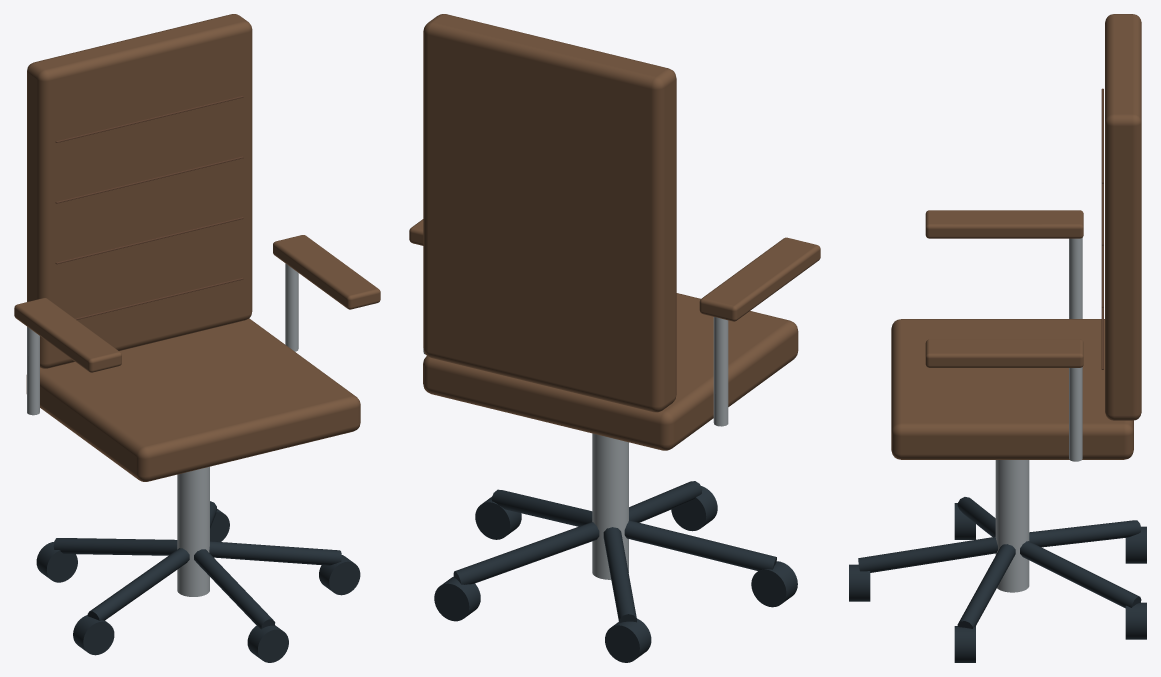
The model's file is officeExecutiveChair.glb.
3 renders of one model, left to right at view 1: azimuth 30°, elevation 25°; view 2: azimuth 150°, elevation 25°; view 3: azimuth 270°, elevation 25°, orthographic. The views are drawn at different scales.
Bounding box in the file's own units: 0.655 × 1.12 × 0.5646.
